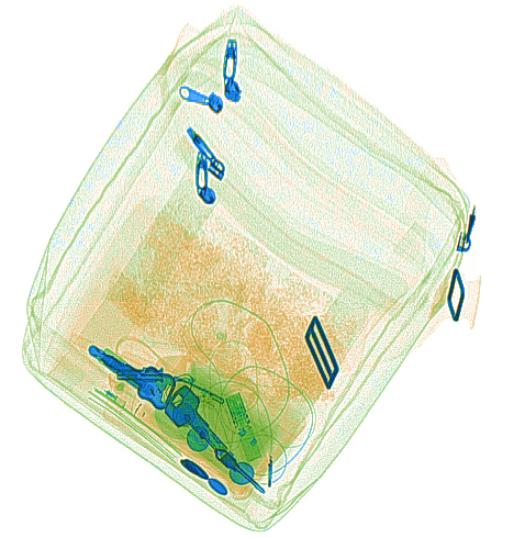USBFlashDisk: (223, 390, 259, 463)
